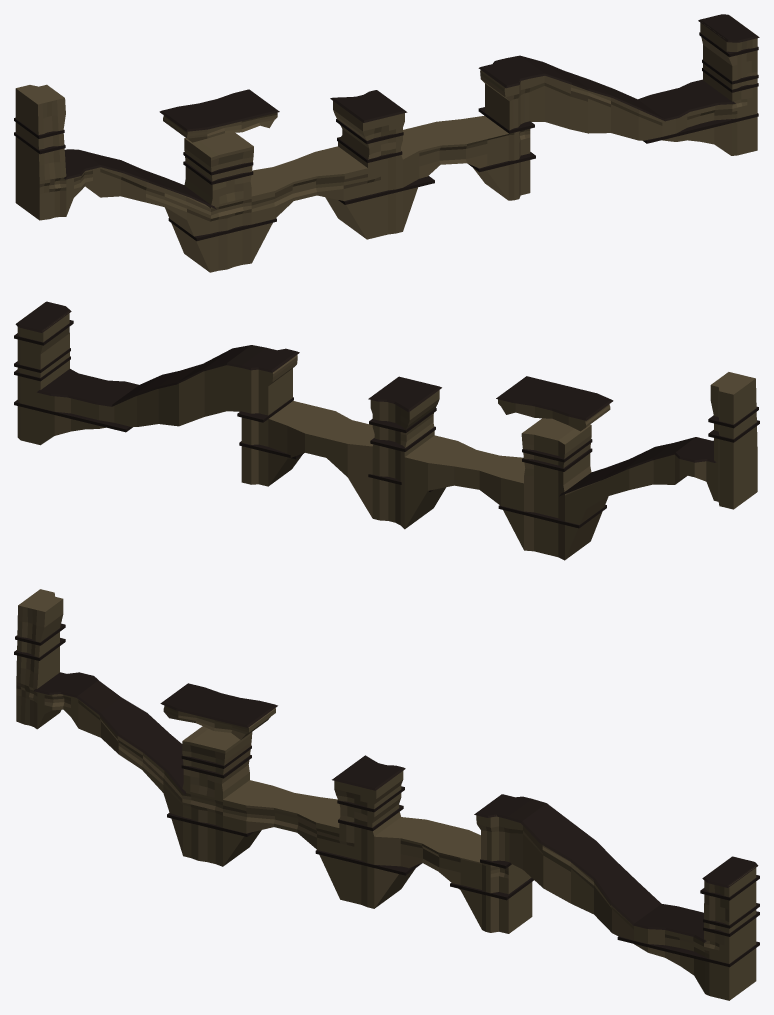
The model's file is map0-2-2.FBX.
3 renders of one model, top to bottom at view 1: azimuth 30°, elevation 25°; view 2: azimuth 150°, elevation 25°; view 3: azimuth 330°, elevation 25°, orthographic.
Parts seen in each view (by area): view 1: Map0-2-2; view 2: Map0-2-2; view 3: Map0-2-2.
Part boxes in pixels (<box>): Map0-2-2: <box>14,14,759,272</box>; Map0-2-2: <box>14,301,759,560</box>; Map0-2-2: <box>14,589,759,1000</box>.
Bounding box in the file's own units: 806 × 66.04 × 233.
